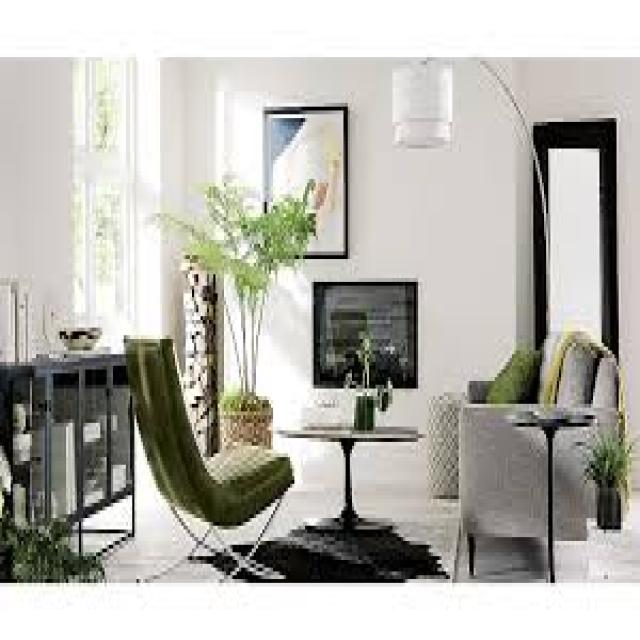Chair: (120, 302, 283, 580), (452, 339, 629, 579)
Lamp: (388, 64, 563, 338)
Table: (280, 408, 420, 542), (513, 400, 589, 589)
